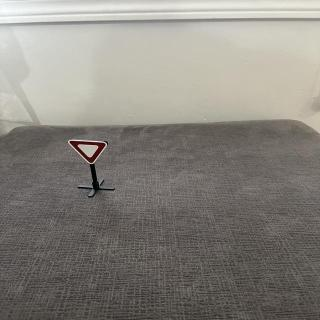sign_yield: (68, 139, 111, 166)
